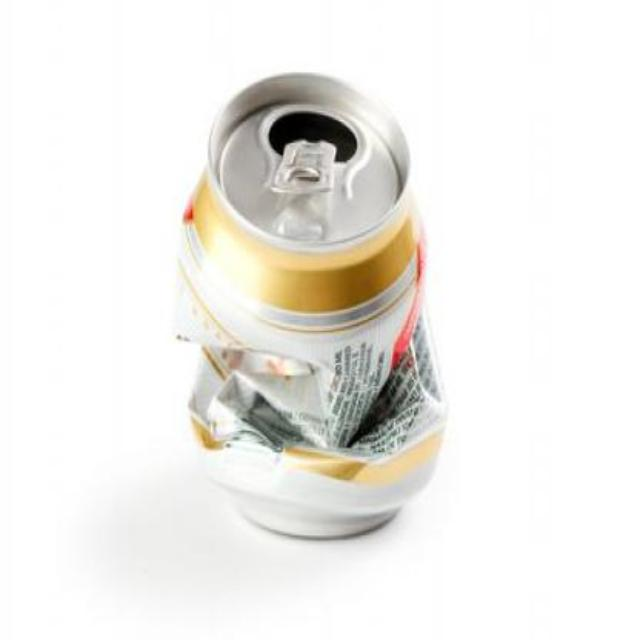metal: (175, 72, 443, 534)
